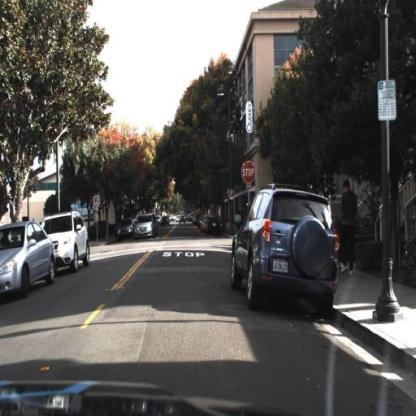car: (232, 183, 344, 316), (2, 220, 57, 300), (44, 207, 91, 271), (52, 211, 92, 273), (133, 211, 159, 241), (135, 212, 160, 240), (118, 217, 136, 240), (206, 218, 224, 236)
pedestrian: (341, 180, 359, 277)
